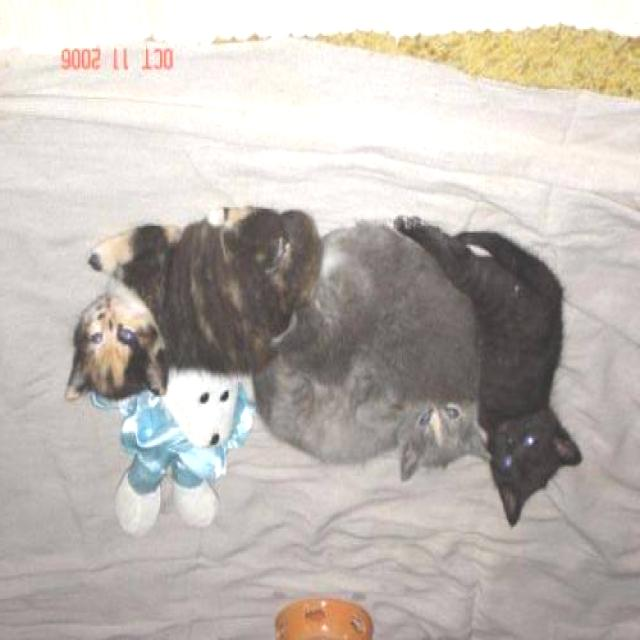Kucing: (482, 246, 618, 536), (44, 209, 243, 402), (262, 365, 470, 516)
